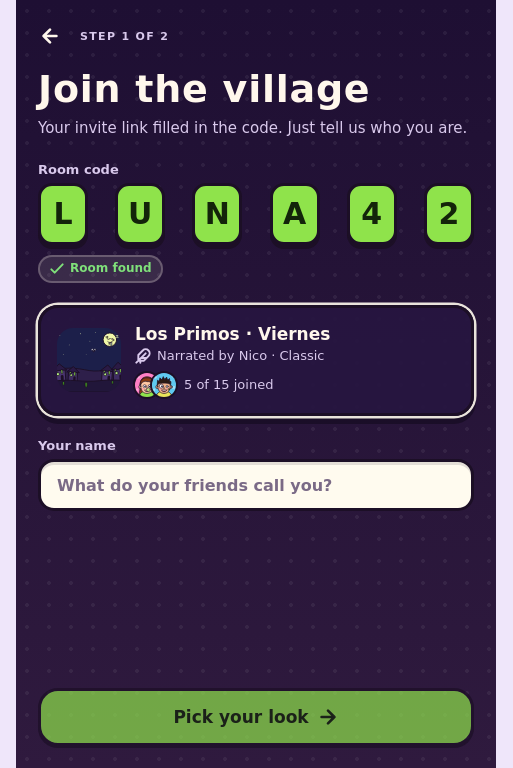
Scenario: JoinView › names an unknown provider generically and hides the button without a link
Replace the text in the field named "Code letter 1" with "NUBE77" at coordinates (63, 214), box [38, 183, 88, 245]
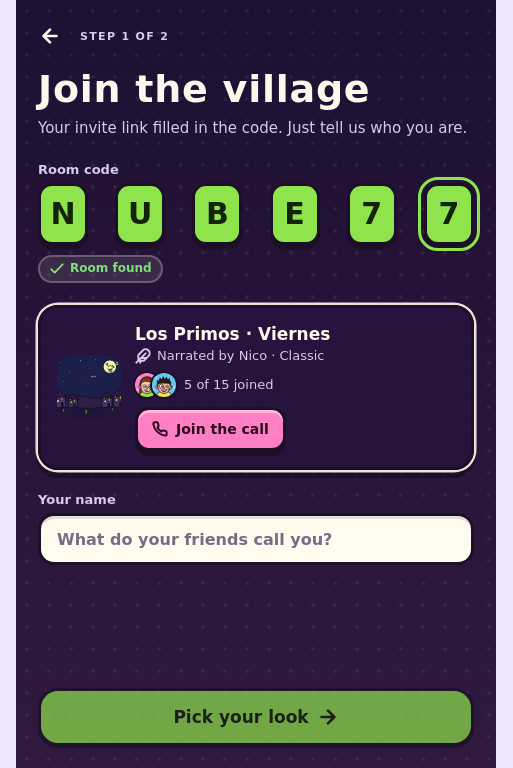
Result: the link "Join the call" is shown at [135, 407, 286, 451]
